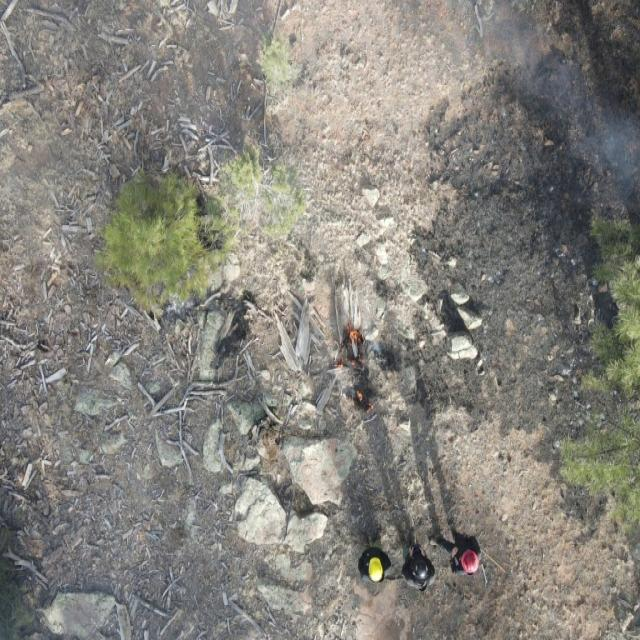fire: (342, 325, 367, 346), (356, 391, 376, 414), (332, 356, 360, 370)
smoke: (1, 0, 640, 218), (218, 217, 437, 385)
